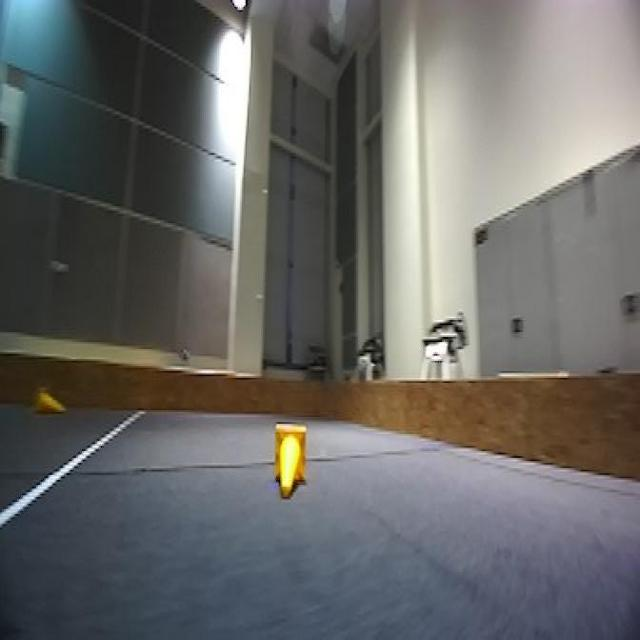frc_cone: (274, 418, 308, 498), (30, 385, 66, 417)
